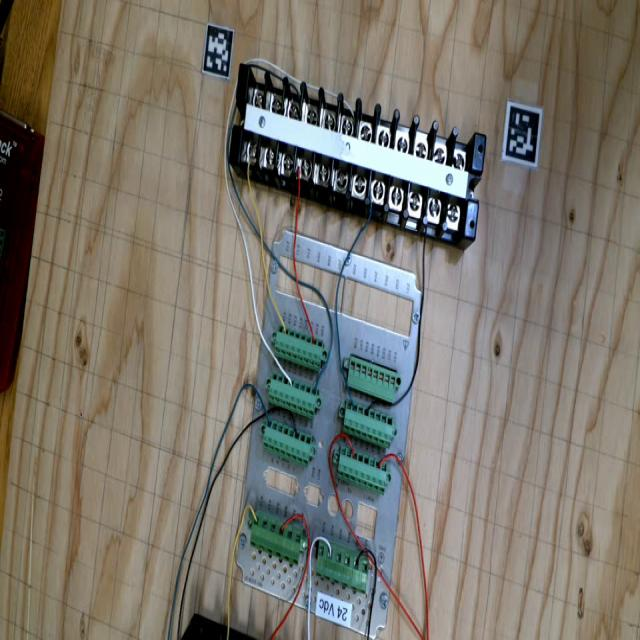Phillips_Block: (211, 59, 505, 239)
Terminal_1: (242, 509, 312, 566), (307, 539, 378, 594)
Terminal_2: (329, 444, 396, 496), (335, 398, 401, 449), (255, 417, 319, 468), (267, 323, 331, 373), (262, 371, 324, 419)
